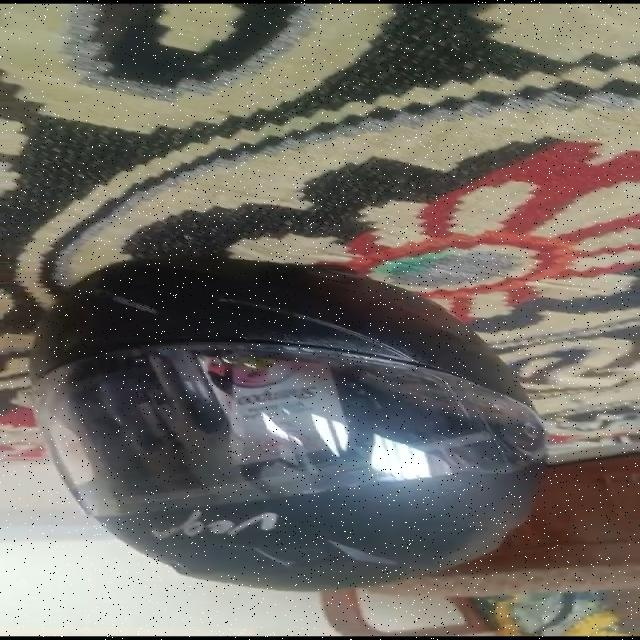Helmet: (30, 261, 546, 591)
